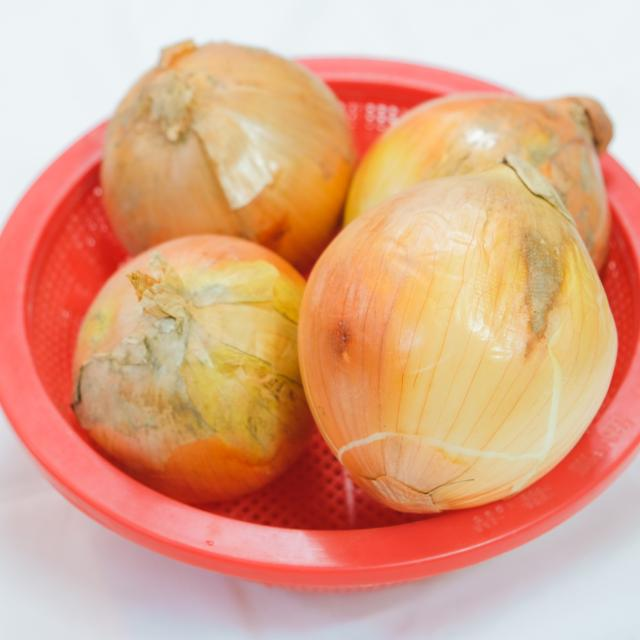onion: (0, 37, 640, 593), (296, 159, 620, 513)
